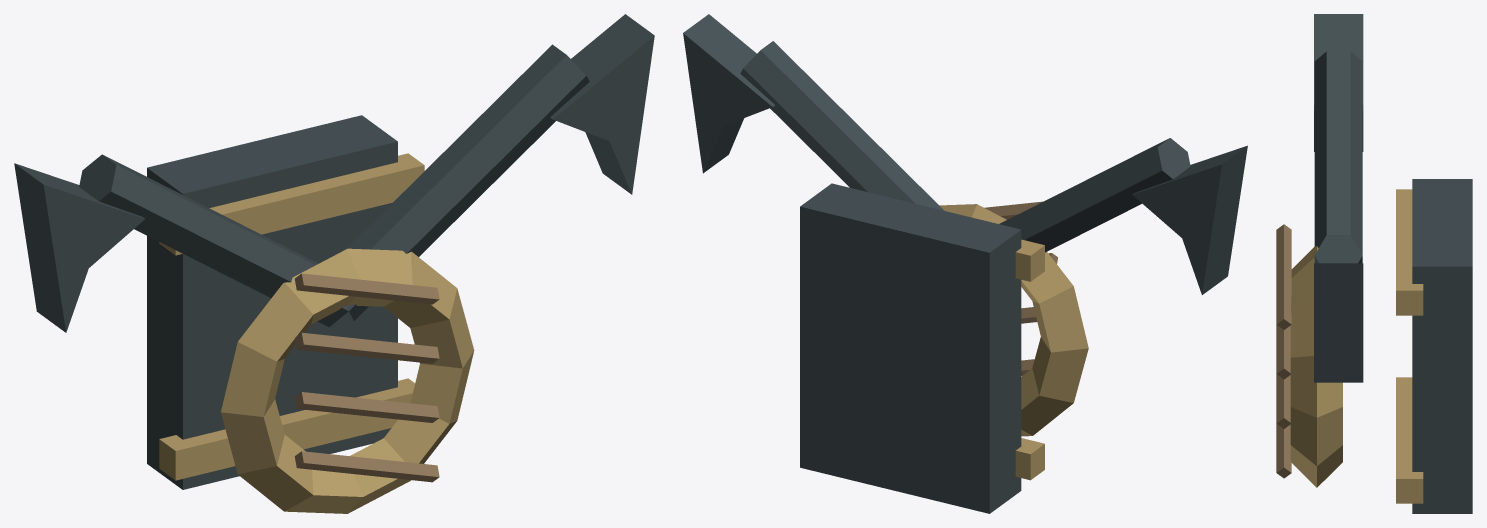
The model's file is Equip_HookAnchor.fbx.
3 renders of one model, left to right at view 1: azimuth 30°, elevation 25°; view 2: azimuth 150°, elevation 25°; view 3: azimuth 270°, elevation 25°, orthographic. The views are drawn at different scales.
Visible parts, largest first — view 1: Equip_HookAnchor; view 2: Equip_HookAnchor; view 3: Equip_HookAnchor.
Boxes of the visible parts, x1=… form: Equip_HookAnchor: x1=14, y1=14, x2=654, y2=513; Equip_HookAnchor: x1=683, y1=14, x2=1247, y2=513; Equip_HookAnchor: x1=1276, y1=14, x2=1472, y2=513.
Bounding box in the file's own units: 0.54 × 0.342 × 0.1795.
